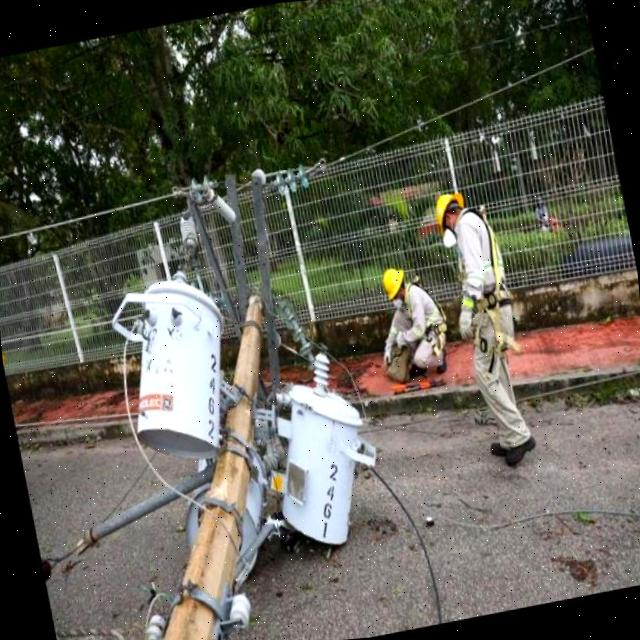Broken Pole: (162, 291, 261, 640)
